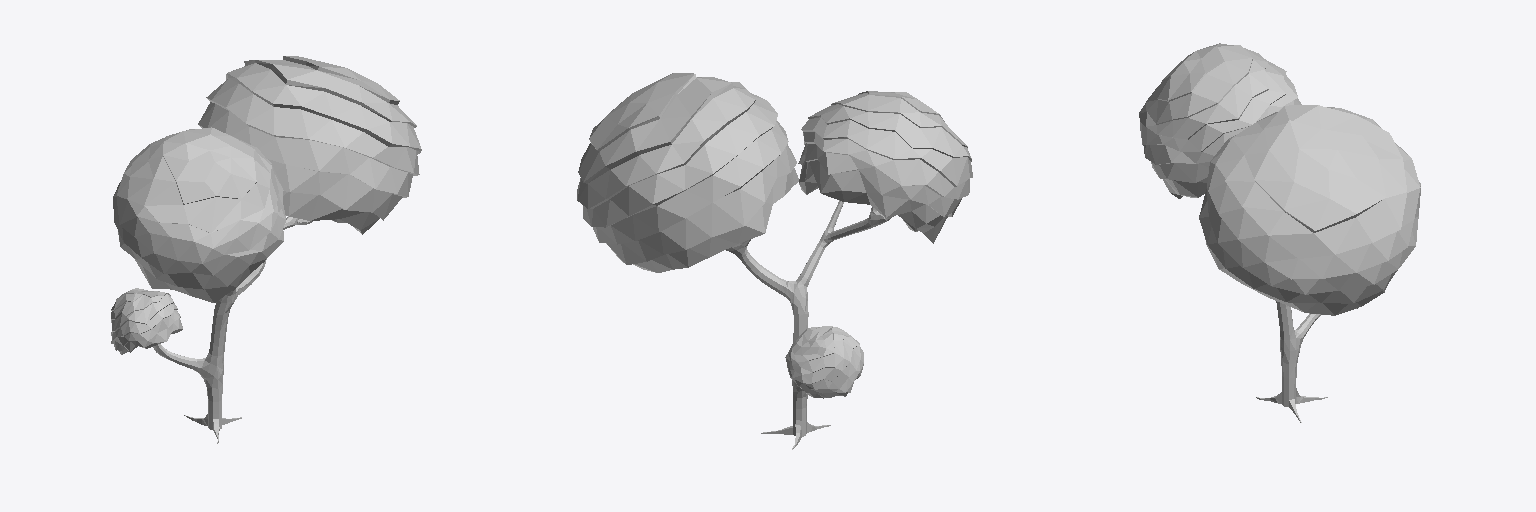
The model's file is LP large Bush tree TREE ST1.obj.
3 renders of one model, left to right at view 1: azimuth 30°, elevation 25°; view 2: azimuth 150°, elevation 25°; view 3: azimuth 270°, elevation 25°, orthographic.
Visible parts, largest first — view 1: Leaves_1.001_Icosphere.002; view 2: Leaves_1.001_Icosphere.002; view 3: Leaves_1.001_Icosphere.002.
Boxes of the visible parts, <box> form: Leaves_1.001_Icosphere.002: <box>111,56,421,443</box>; Leaves_1.001_Icosphere.002: <box>577,73,972,449</box>; Leaves_1.001_Icosphere.002: <box>1139,43,1420,422</box>.
Bounding box in the file's own units: 11.9 × 11.83 × 8.95.